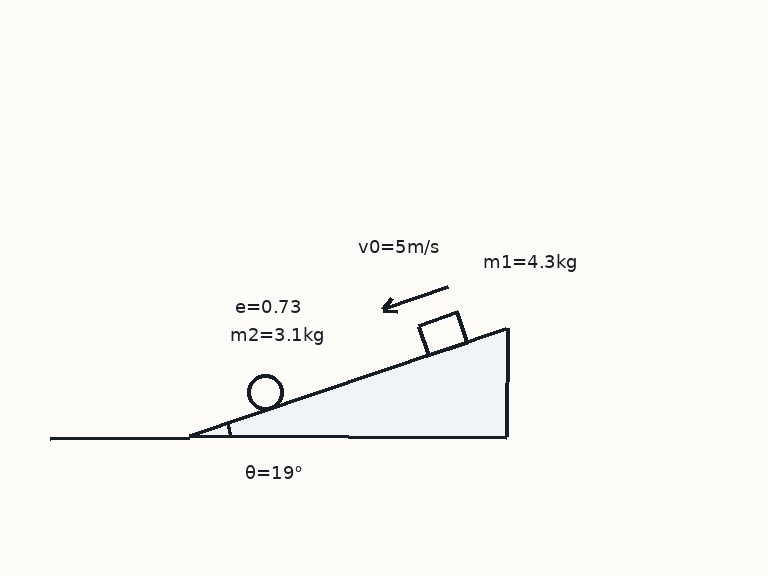ball: (245, 372, 285, 412)
block: (415, 311, 469, 357)
ramp: (188, 326, 509, 439)
